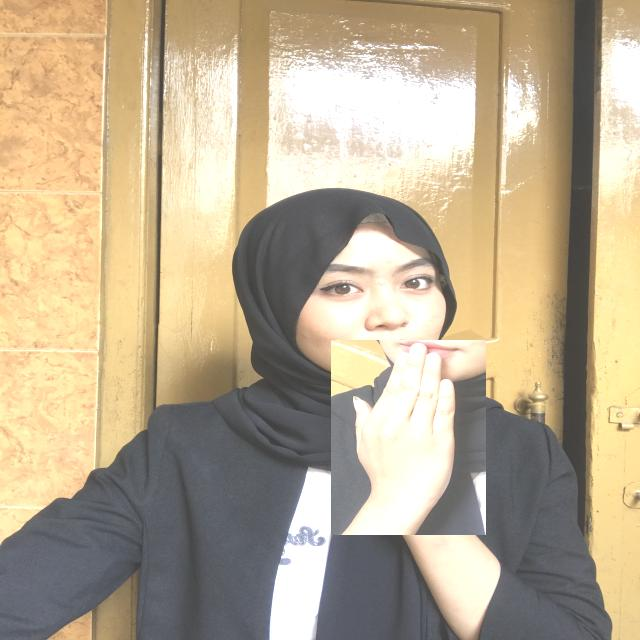ganteng: (331, 340, 486, 535)
